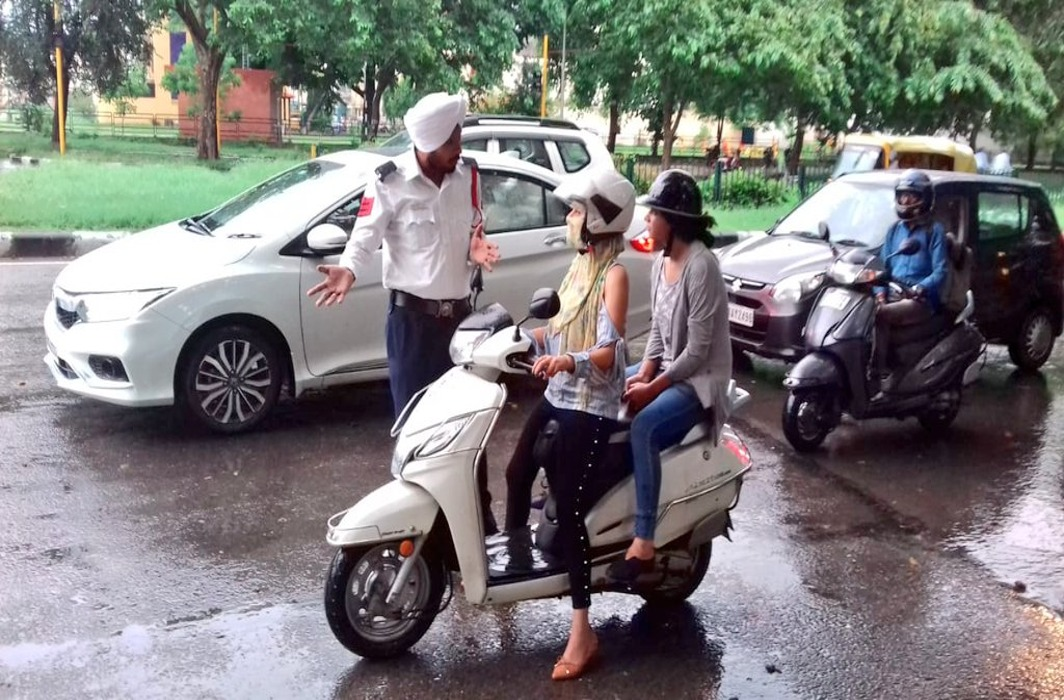Bike: (315, 297, 544, 668), (801, 253, 883, 457)
